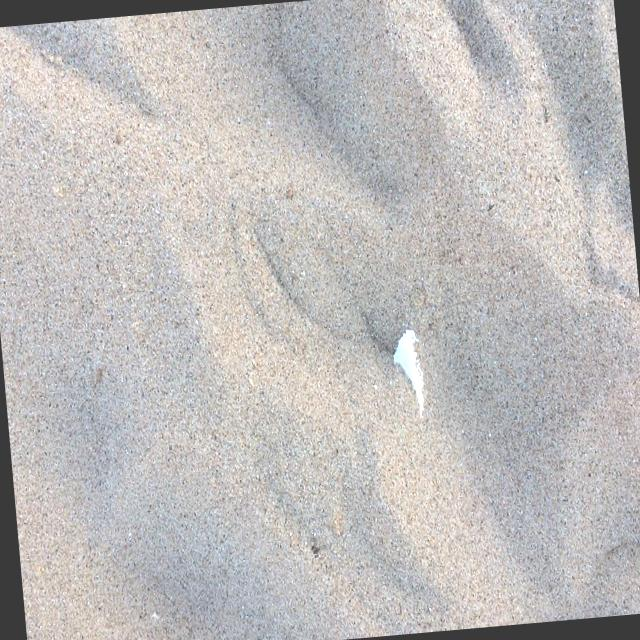Trash: (386, 322, 430, 426)
